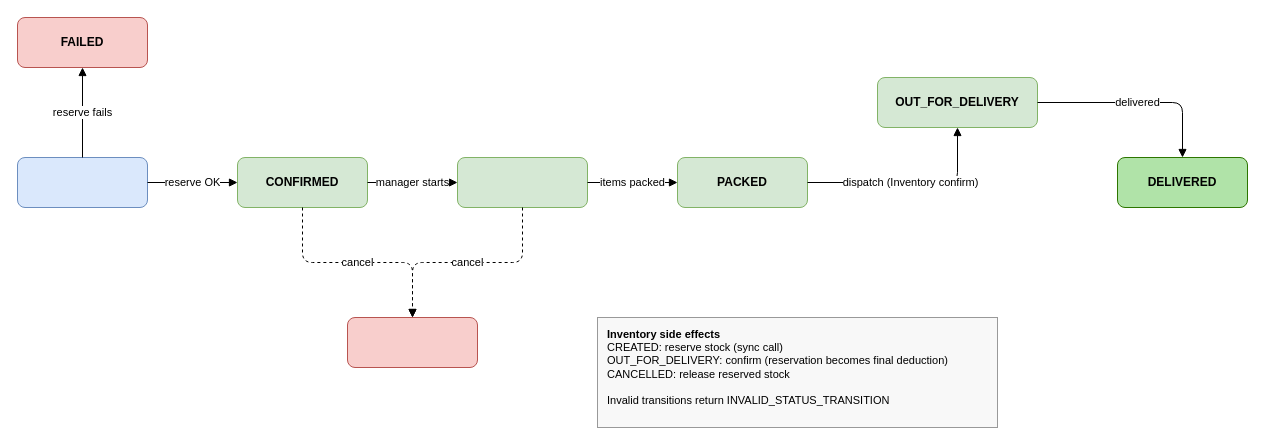
Some shapes in this 1265 by 445 pixel diagram are drawn without their labels. Each missing label, with the centre of its shape:
"CANCELLED" belongs at point (412, 342).
"CREATED" belongs at point (82, 182).
"PICKING" belongs at point (522, 182).
